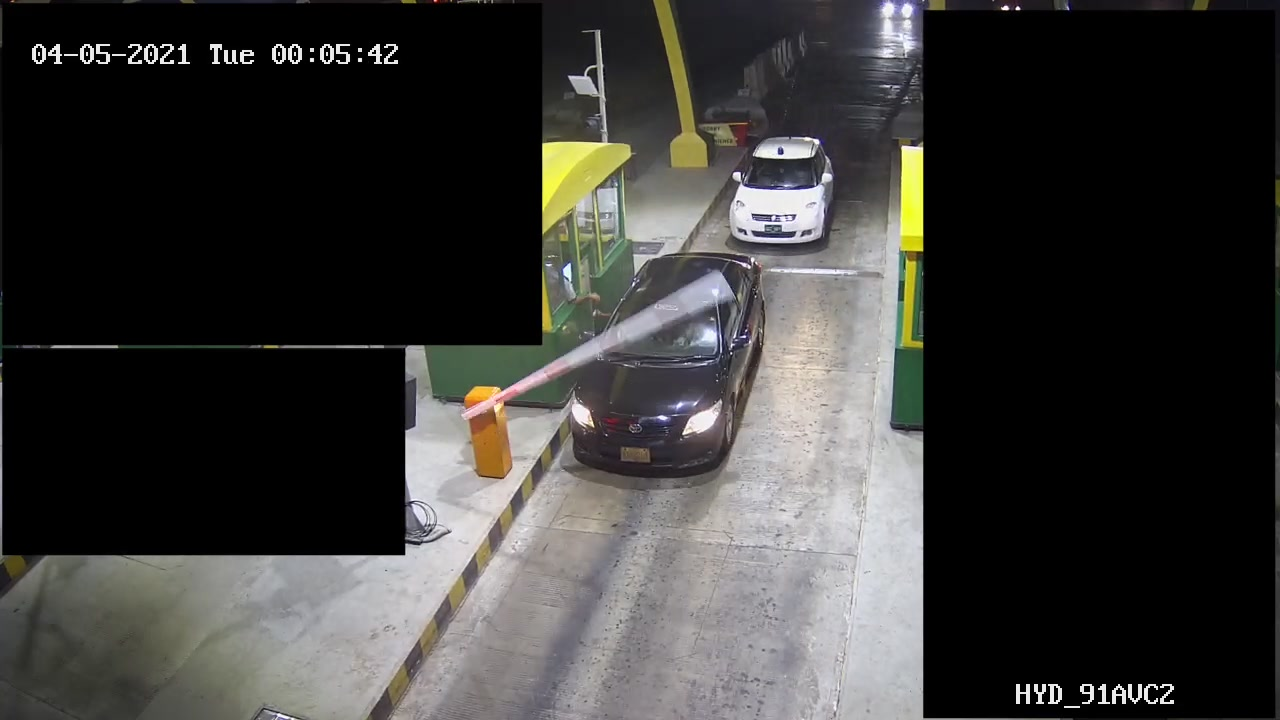F1: (558, 246, 778, 477), (716, 133, 851, 255)
